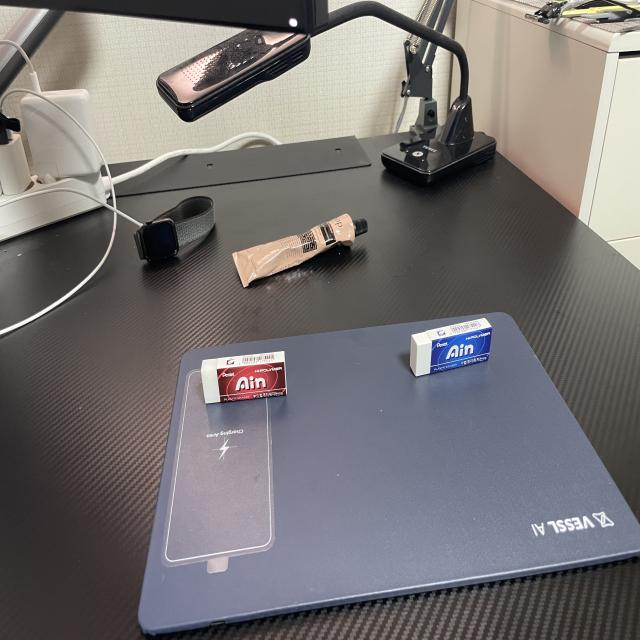blue: (401, 294, 500, 396)
red: (196, 343, 294, 413)
